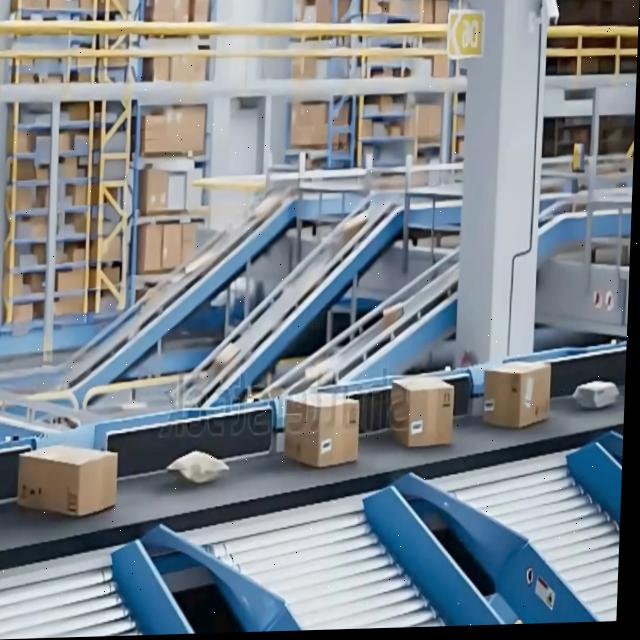product 1: (283, 390, 362, 469), (389, 375, 456, 448), (482, 360, 542, 429)
product 2: (166, 447, 230, 489)
